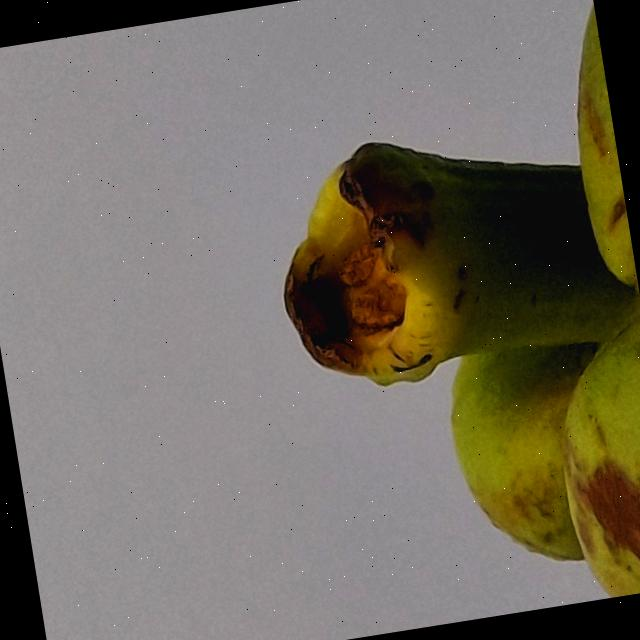mangosteen: (270, 0, 640, 636)
